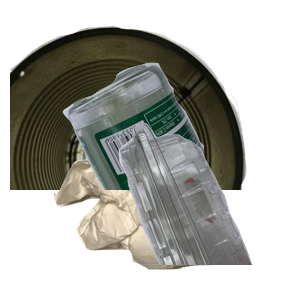glass: (60, 60, 300, 240)
metal: (10, 23, 250, 203)
plastic: (71, 120, 300, 300)
trash: (51, 155, 261, 300)
